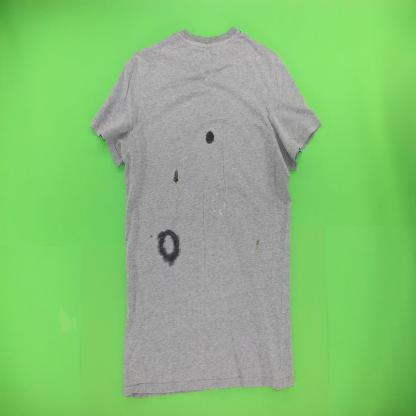stain: (154, 225, 183, 268), (210, 190, 228, 218), (204, 128, 216, 147), (172, 169, 180, 186), (255, 238, 261, 250), (148, 231, 154, 241)
